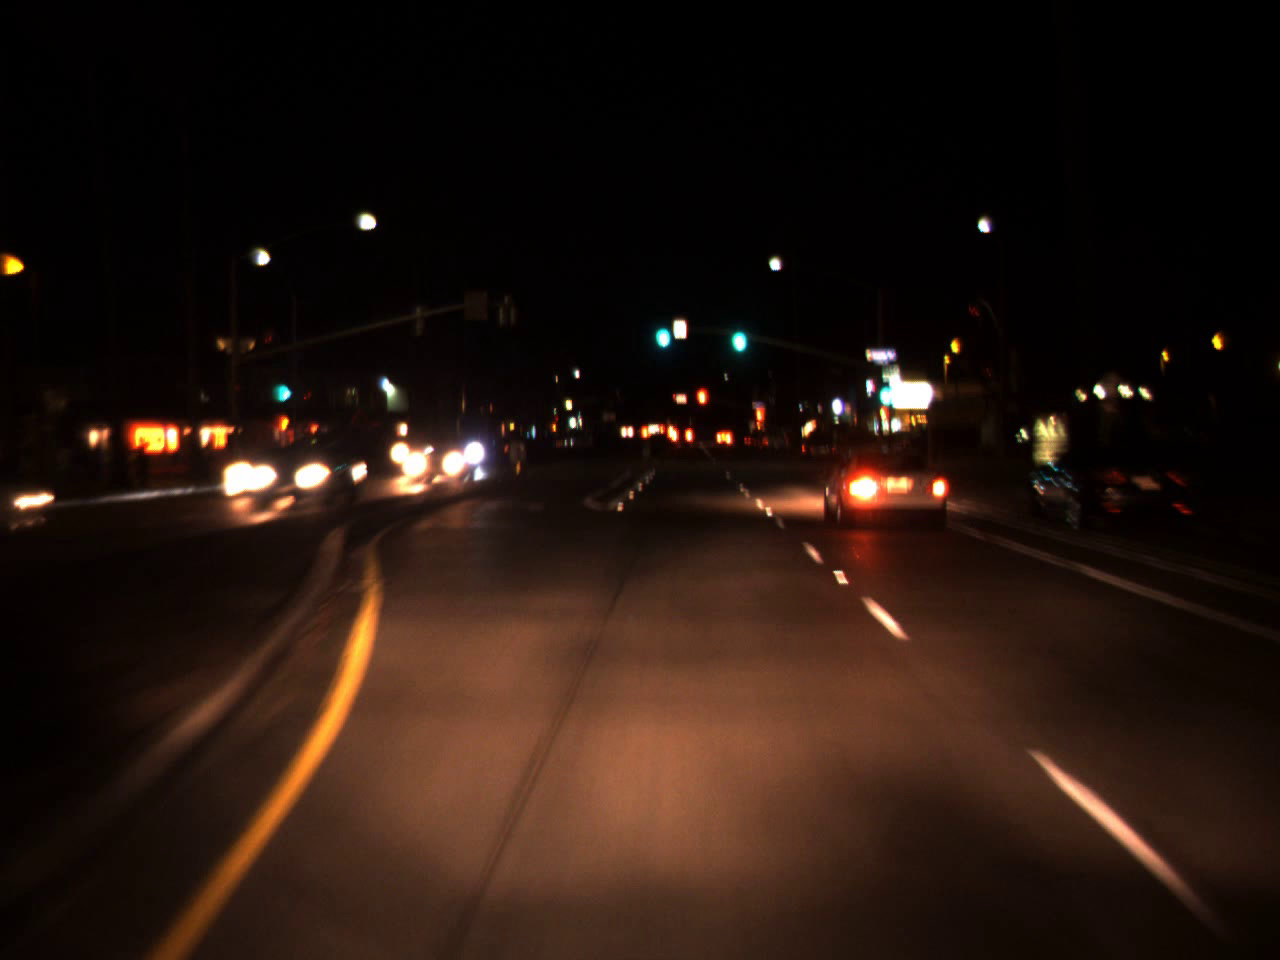go: (725, 306, 748, 360), (650, 307, 673, 352), (274, 365, 290, 407), (874, 369, 890, 408)
stop: (693, 383, 711, 428), (756, 406, 763, 435)
